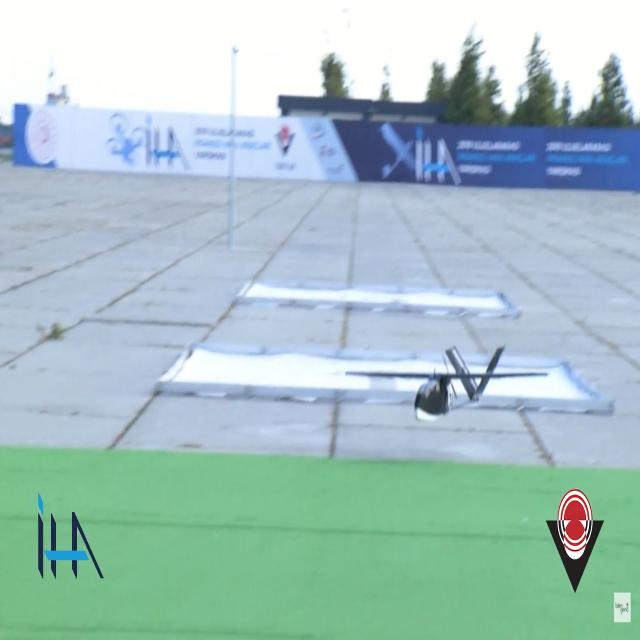iha: (339, 374, 549, 395)
